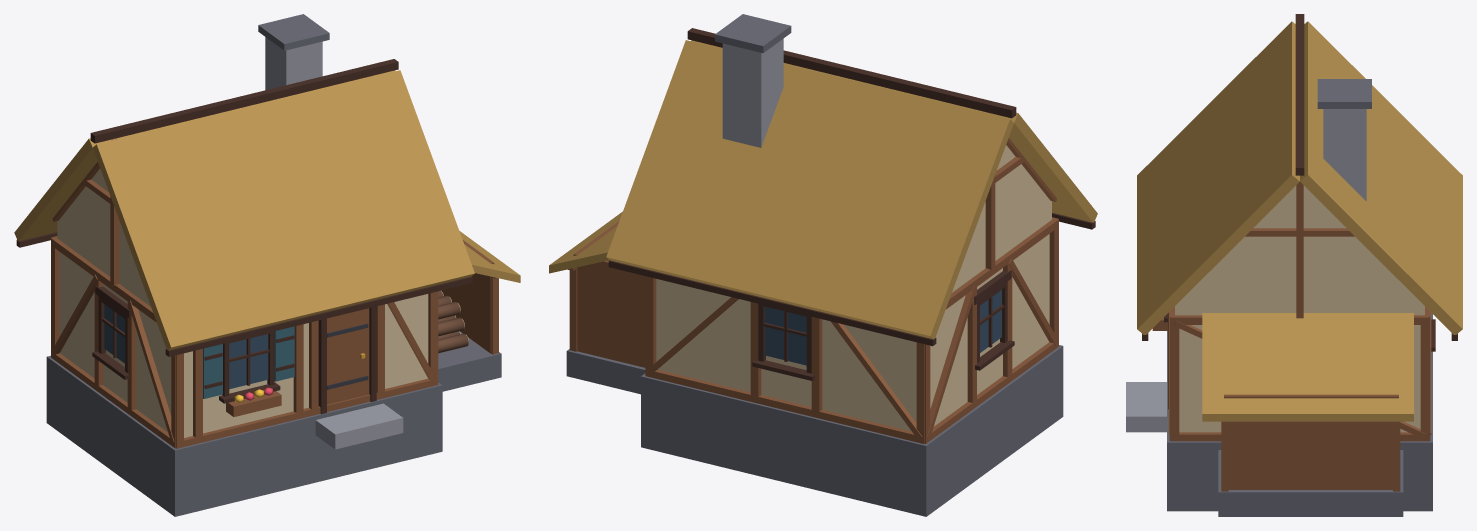
Rendered from cottage_b.glb.
3 renders of one model, left to right at view 1: azimuth 30°, elevation 25°; view 2: azimuth 150°, elevation 25°; view 3: azimuth 270°, elevation 25°, orthographic. The views are drawn at different scales.
Visible parts, largest first — view 1: footing; view 2: footing; view 3: footing.
Boxes of the visible parts, left/top/right/bottom form: footing: left=14, top=14, right=520, bottom=516; footing: left=549, top=14, right=1097, bottom=516; footing: left=1126, top=14, right=1462, bottom=516.
Bounding box in the file's own units: 8.4 × 7.91 × 6.2.
